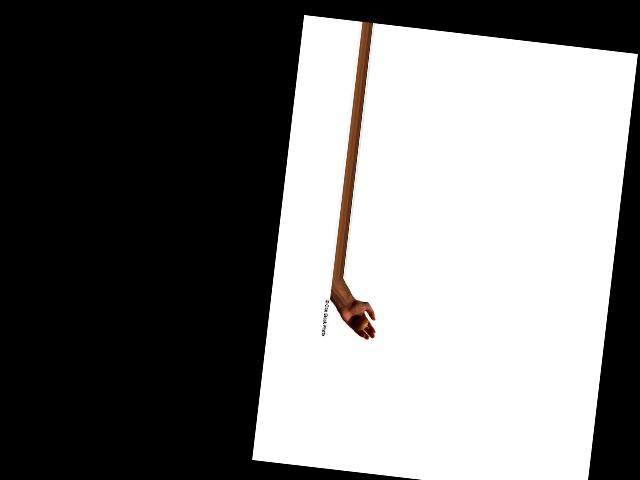egg: (353, 316, 368, 331)
